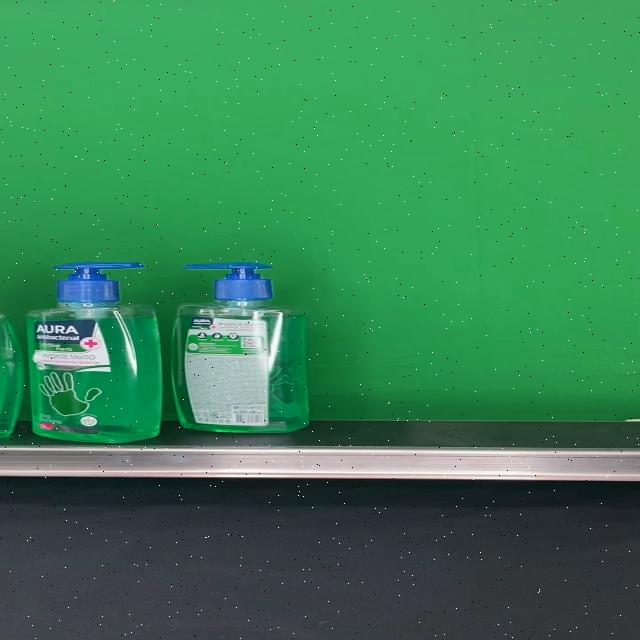Bottle: (26, 260, 163, 442), (170, 262, 309, 433)
Cap: (53, 260, 145, 301), (182, 262, 275, 302)
